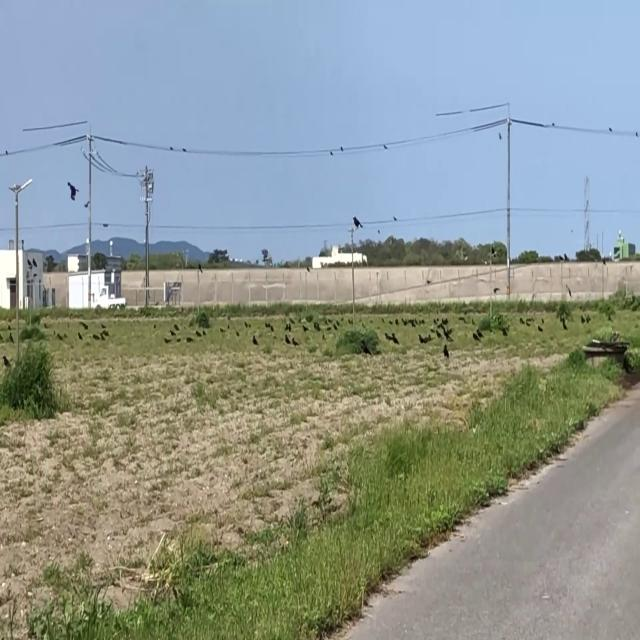bird: (67, 174, 77, 203), (352, 211, 362, 234), (444, 342, 449, 361), (391, 328, 396, 344), (472, 329, 477, 344), (253, 331, 257, 348), (425, 273, 429, 287), (383, 138, 387, 152), (582, 312, 586, 326), (170, 140, 173, 154)
